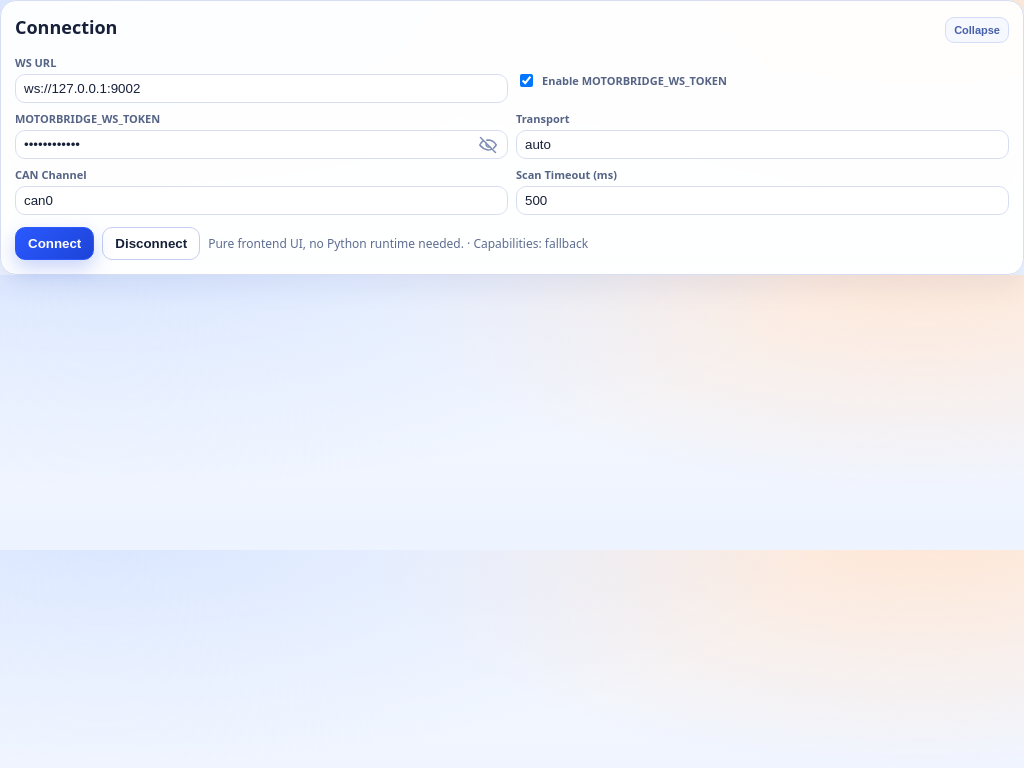
it: ConnectionPanel token controls › toggles token visibility with the eye button
Click the button named "Show token".
click(488, 145)  # box [478,135,498,155]
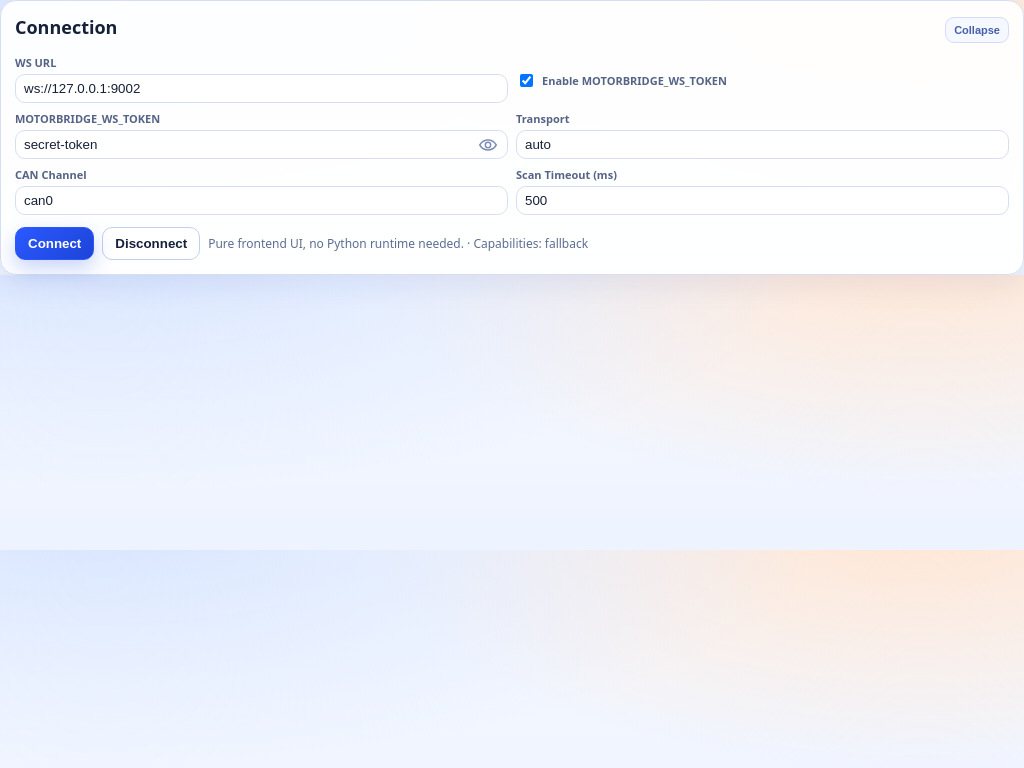
Expected: the button named "Hide token" is shown, [478,135,498,155]
